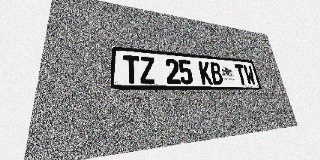2: (165, 58, 181, 84)
5: (178, 59, 194, 84)
B: (209, 62, 224, 85)
K: (198, 61, 213, 84)
T: (123, 55, 140, 84), (234, 64, 248, 85)
W: (243, 65, 256, 85)
Z: (139, 56, 156, 84)
